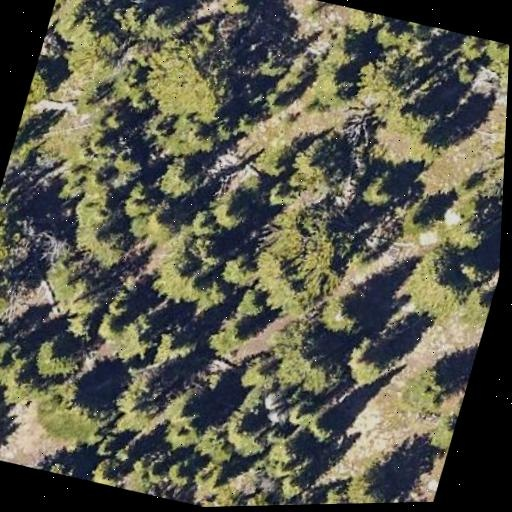tree-top: (136, 27, 248, 133), (397, 236, 491, 322), (98, 358, 178, 446), (57, 190, 139, 272), (278, 207, 357, 282), (346, 44, 426, 117), (90, 303, 167, 370), (143, 226, 211, 296), (152, 392, 216, 459), (309, 277, 375, 341), (20, 327, 87, 390), (336, 330, 399, 394), (76, 213, 139, 273), (45, 256, 108, 314), (72, 20, 128, 79), (432, 206, 492, 259), (149, 149, 206, 202), (202, 182, 257, 236), (149, 319, 203, 374), (220, 413, 274, 465), (49, 388, 102, 440), (24, 44, 63, 112), (191, 419, 242, 470), (407, 366, 458, 415), (337, 462, 396, 504), (355, 167, 402, 215), (262, 427, 309, 475), (235, 351, 283, 397), (176, 111, 219, 160), (213, 245, 259, 290), (231, 278, 275, 324), (292, 138, 335, 184), (0, 173, 23, 255), (61, 302, 104, 345), (307, 64, 351, 106), (116, 182, 155, 226), (405, 123, 445, 163), (398, 203, 436, 240), (320, 32, 357, 70), (88, 455, 129, 489), (425, 411, 458, 453), (112, 141, 149, 178), (82, 124, 118, 162), (339, 6, 384, 35), (304, 408, 340, 444), (257, 143, 294, 178), (281, 399, 319, 433), (53, 10, 90, 43), (201, 485, 255, 507), (140, 4, 177, 36), (276, 468, 308, 505), (147, 206, 178, 241), (0, 324, 21, 373), (456, 34, 487, 65), (47, 450, 81, 478), (452, 60, 482, 90), (0, 375, 12, 446), (194, 0, 264, 11), (484, 40, 510, 68), (48, 0, 72, 30), (192, 211, 218, 237), (397, 19, 425, 34)
